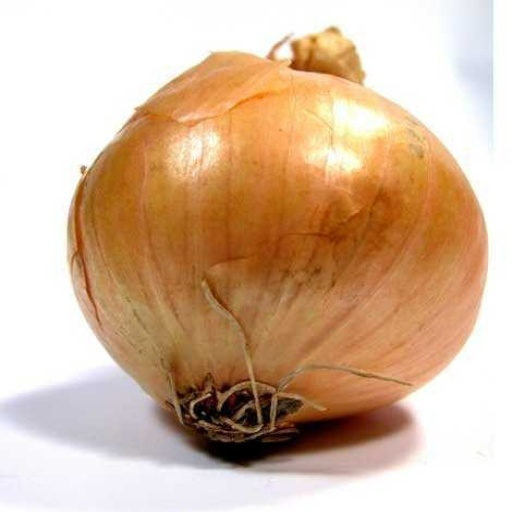Zwiebel: (66, 26, 488, 442)
